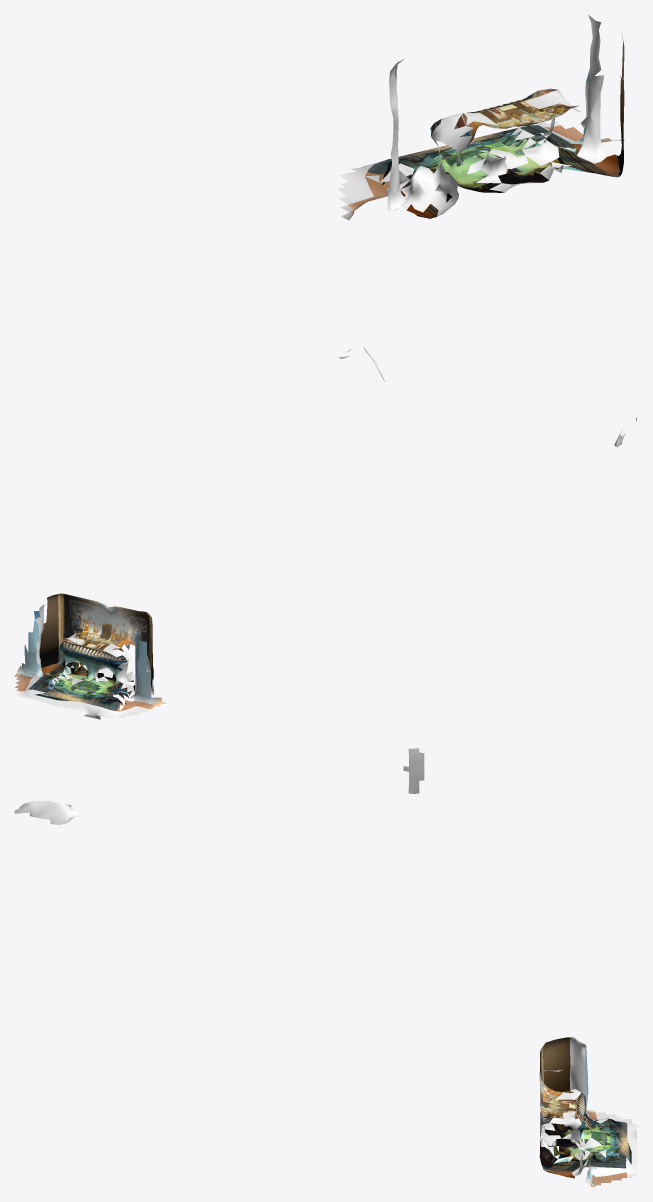
3 views of the same model, one above another, from view 1: azimuth 30°, elevation 25°; view 2: azimuth 150°, elevation 25°; view 3: azimuth 270°, elevation 25° (orthographic). The views are drawn at different scales.
Parts seen in each view (by area): view 1: object 1, texture_0; view 2: texture_0, object 1; view 3: texture_0, object 1.
Boxes of the visible parts, x1,y1,x2,y2 form: object 1: [337, 14, 606, 381]; texture_0: [348, 33, 624, 218]; texture_0: [14, 593, 166, 711]; object 1: [14, 417, 637, 719]; texture_0: [539, 1037, 631, 1187]; object 1: [14, 748, 638, 1186].
Bounding box in the file's own units: 1.88 × 1.02 × 2.41.
Materials: 2 (1 with a texture image).
